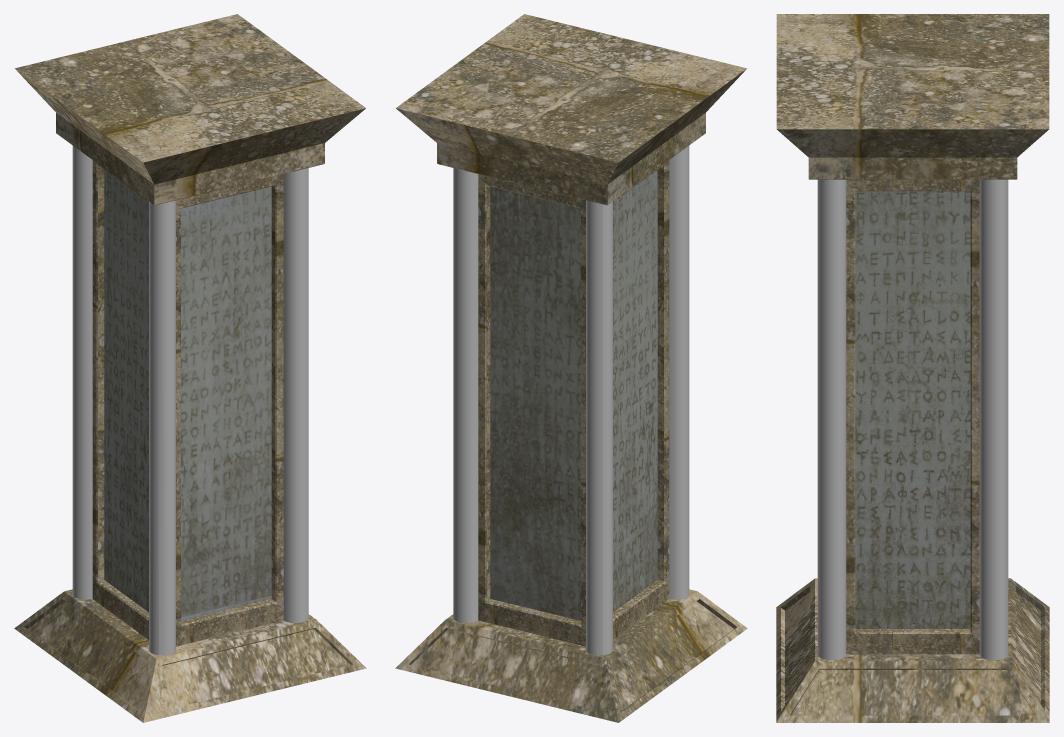
The model's file is Pillar.fbx.
3 renders of one model, left to right at view 1: azimuth 30°, elevation 25°; view 2: azimuth 150°, elevation 25°; view 3: azimuth 270°, elevation 25°, orthographic. The views are drawn at different scales.
Parts seen in each view (by area): view 1: Pillar_LP; view 2: Pillar_LP; view 3: Pillar_LP.
Boxes of the visible parts, box(x1,y1,x2,y2) form: Pillar_LP: box(14, 14, 366, 722); Pillar_LP: box(395, 14, 747, 722); Pillar_LP: box(776, 14, 1049, 722).
Size of the model in its own units: 200 by 479 by 200.
